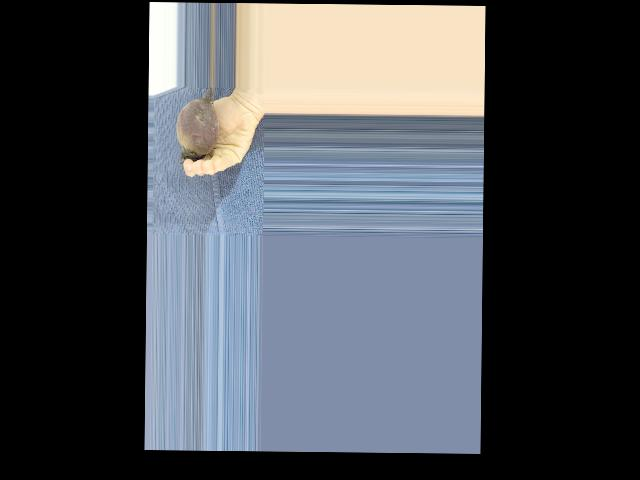beet: (176, 87, 220, 166)
